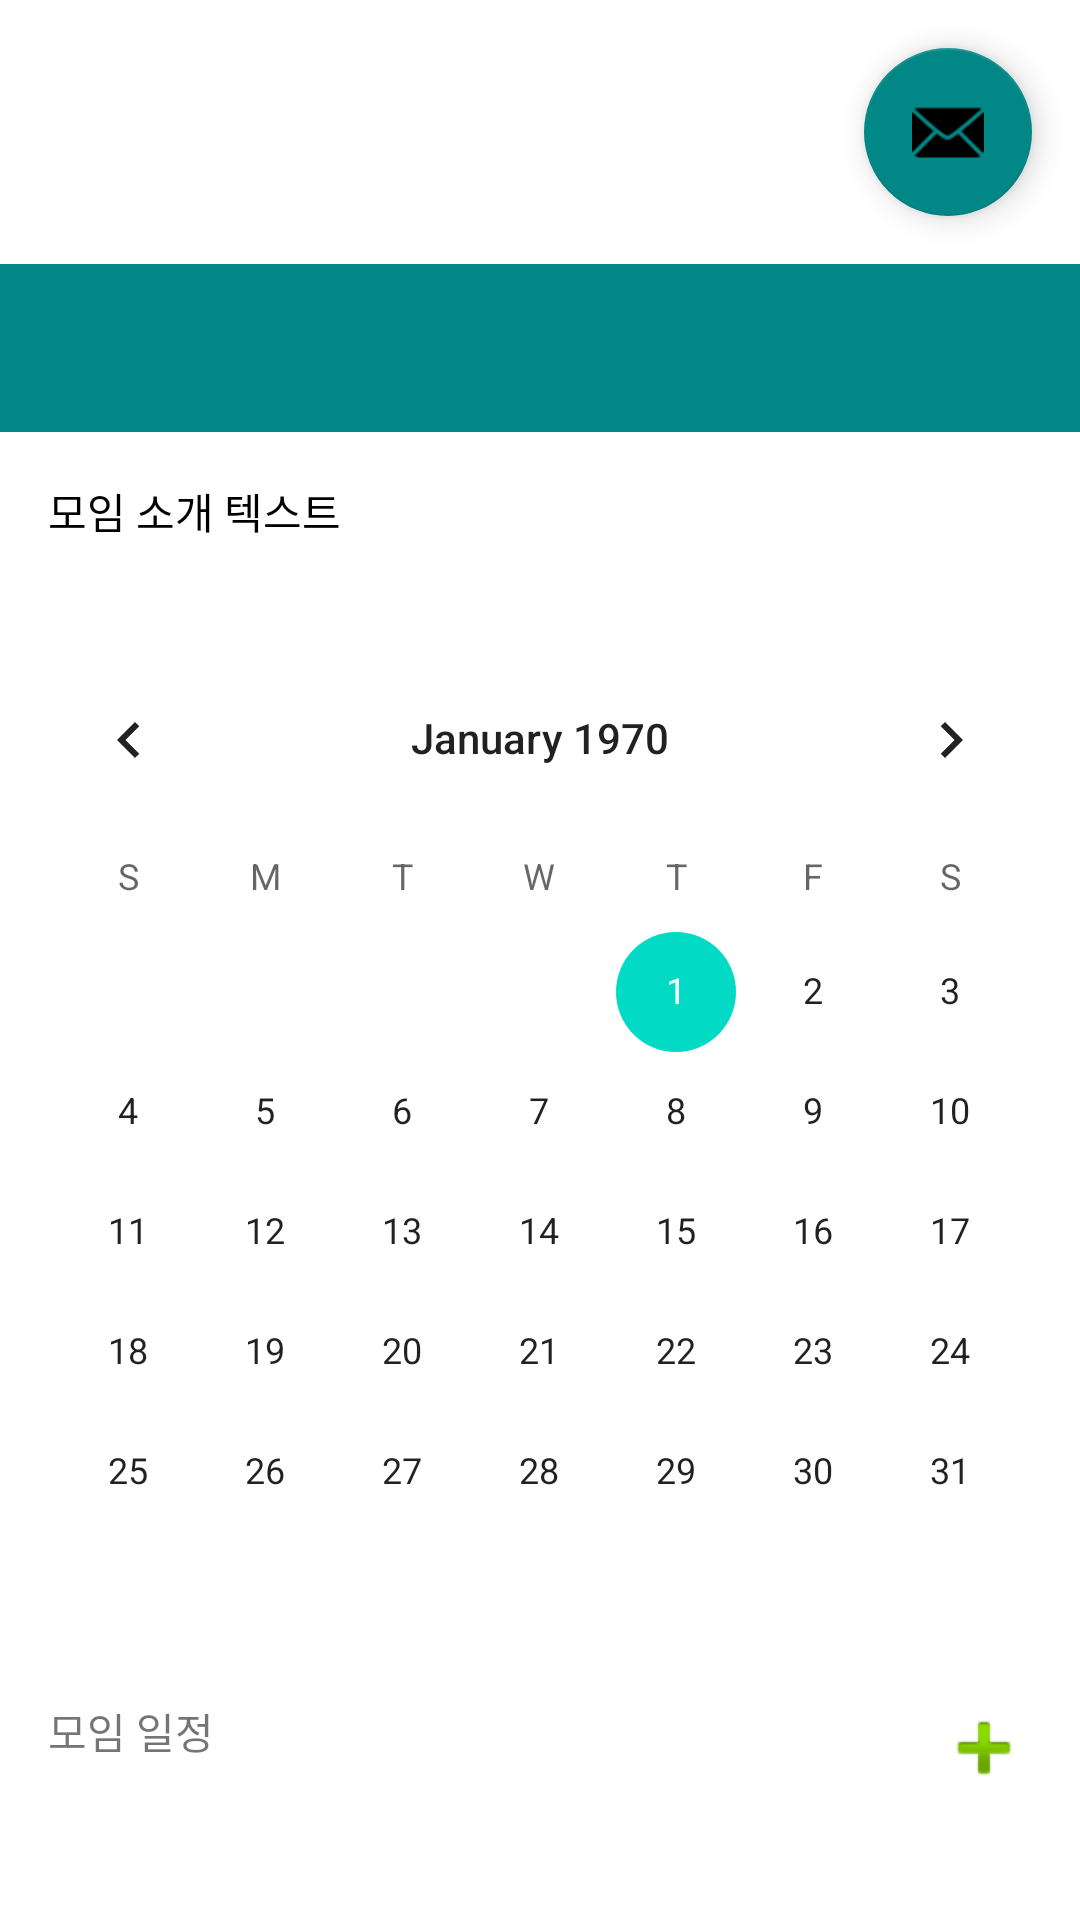

Icon bounding boxes for this 1080x1920 phone screenshot, format bbox(x1, y1, x2, y2):
add: bbox(957, 1721, 1011, 1775)
채팅 이동: bbox(864, 48, 1032, 216)
